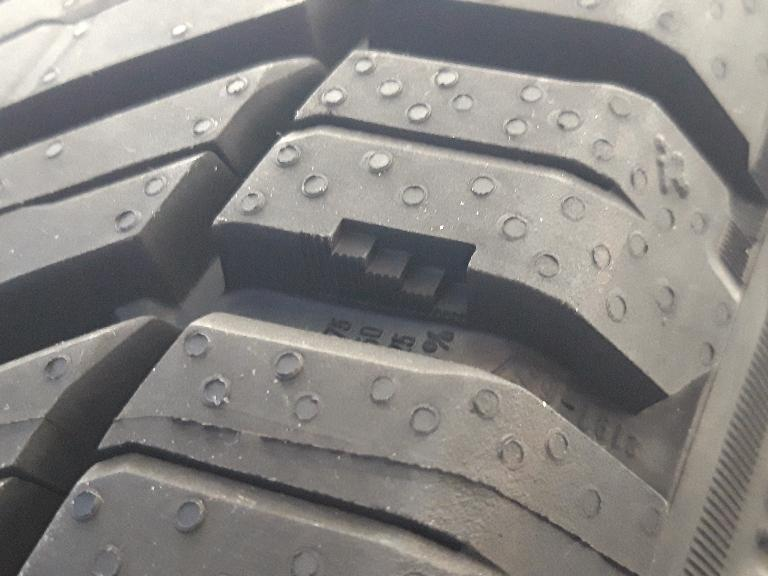temoin:100: (293, 210, 484, 336)
